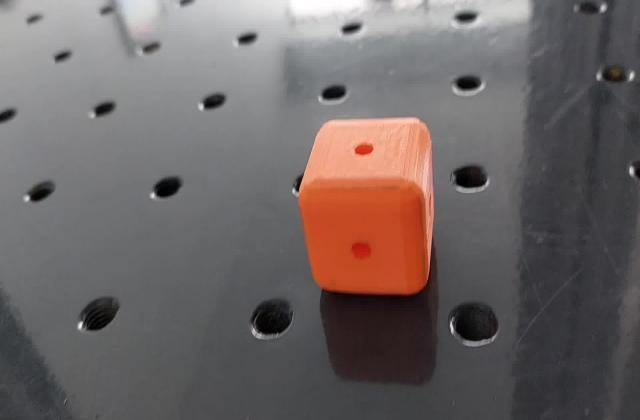cube: (295, 114, 438, 298)
